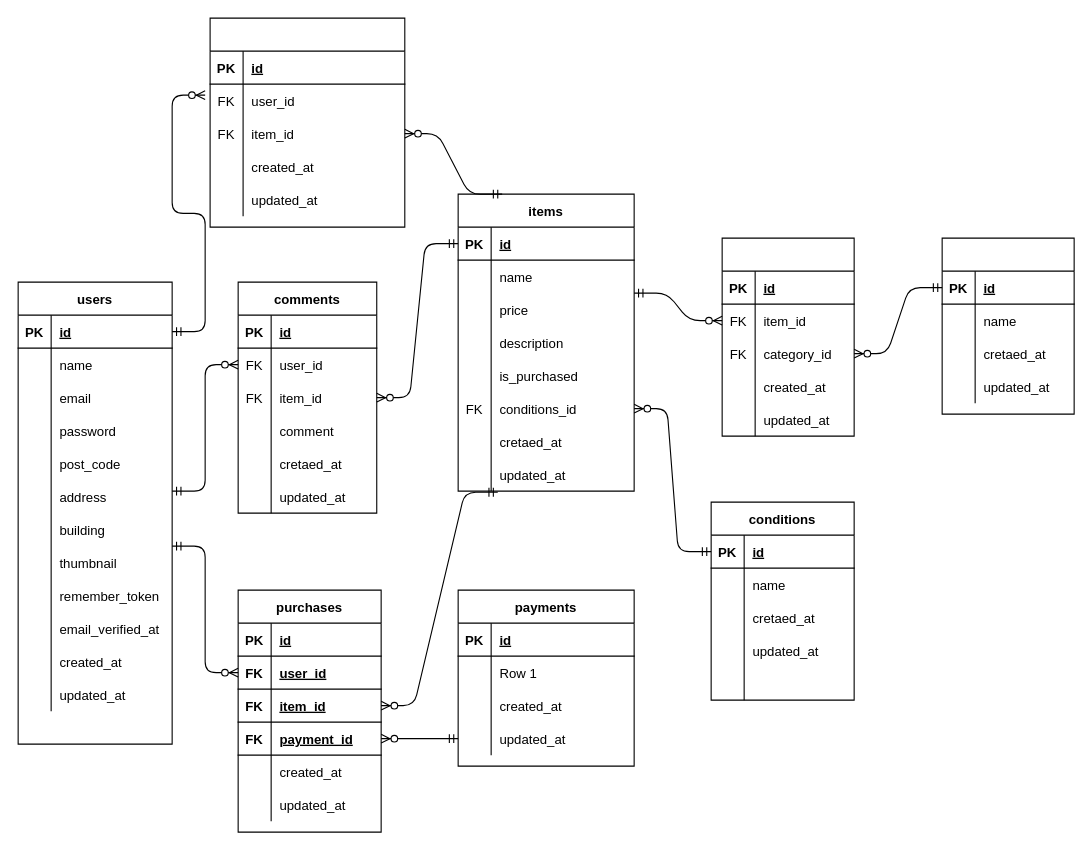
Image size: 1092x850. Some labels were removed from this diagram. The box of each missing label's shape, as (x1, y1, x2, y2) in pixels:
categories: (941, 237, 1074, 414)
categories_items: (721, 237, 854, 436)
favorites: (209, 17, 405, 227)
